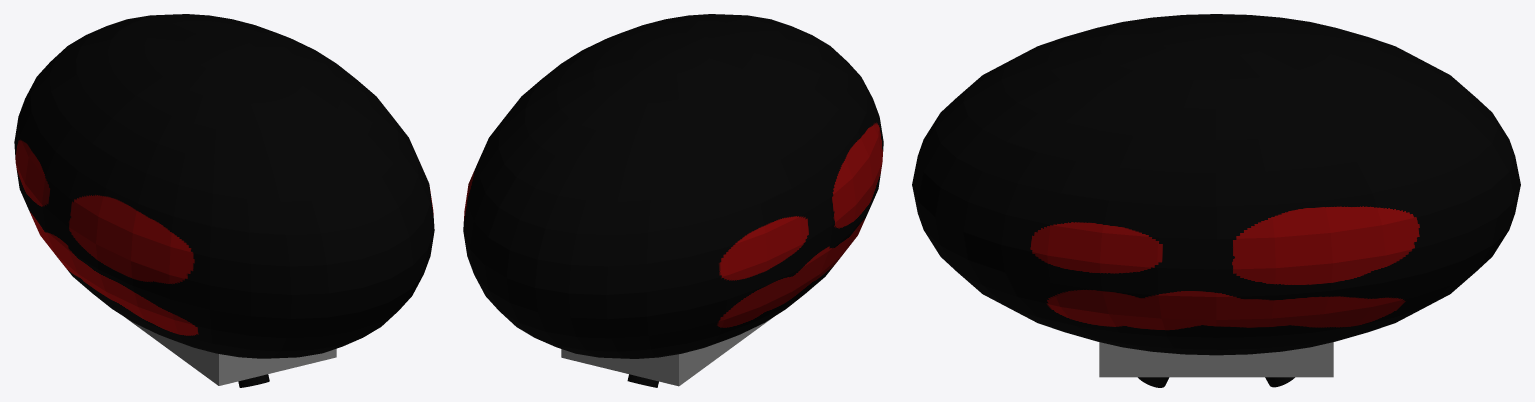
Rendered from blimp.glb.
3 renders of one model, left to right at view 1: azimuth 30°, elevation 25°; view 2: azimuth 150°, elevation 25°; view 3: azimuth 270°, elevation 25°, orthographic. The views are drawn at different scales.
Visible parts, largest first — view 1: Sphere; view 2: Sphere; view 3: Sphere.
Part boxes in pixels (left/top/right/bottom): Sphere: left=14, top=14, right=434, bottom=387; Sphere: left=463, top=14, right=883, bottom=387; Sphere: left=912, top=14, right=1520, bottom=387.
Size of the model in its own units: 2.7 by 2.58 by 4.08.
Materials: 3 (1 with a texture image).
